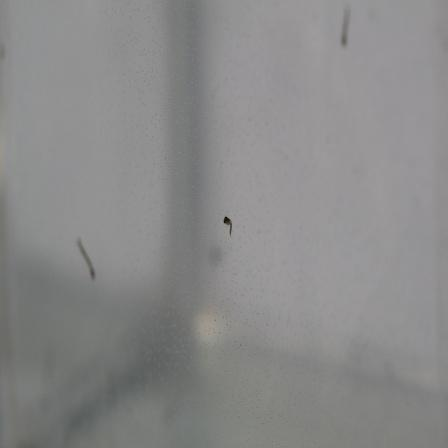Jentik-Nyamuk: (75, 234, 101, 286), (222, 213, 236, 242)
